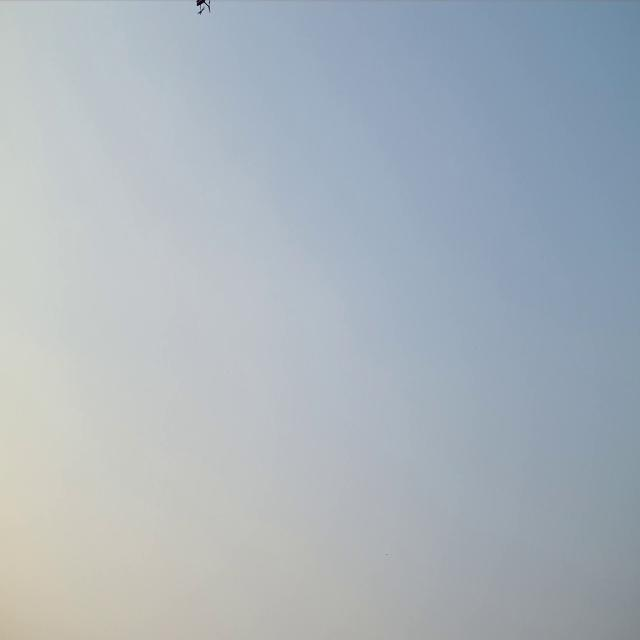UAV: (192, 0, 211, 16)
